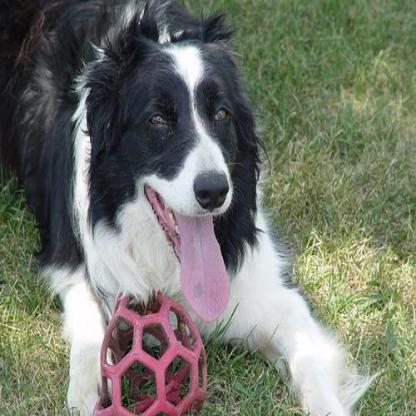Border_collie: (0, 0, 389, 414)
